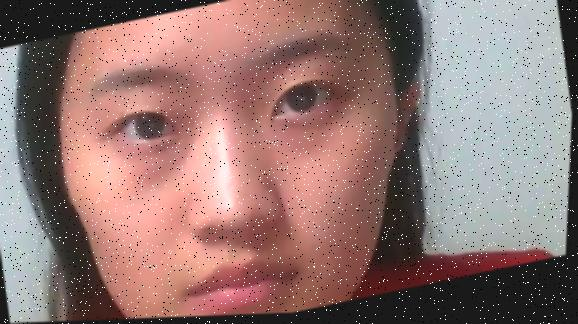eye: (284, 82, 320, 118), (133, 107, 169, 143)
iris: (268, 81, 336, 122), (118, 107, 177, 146)
